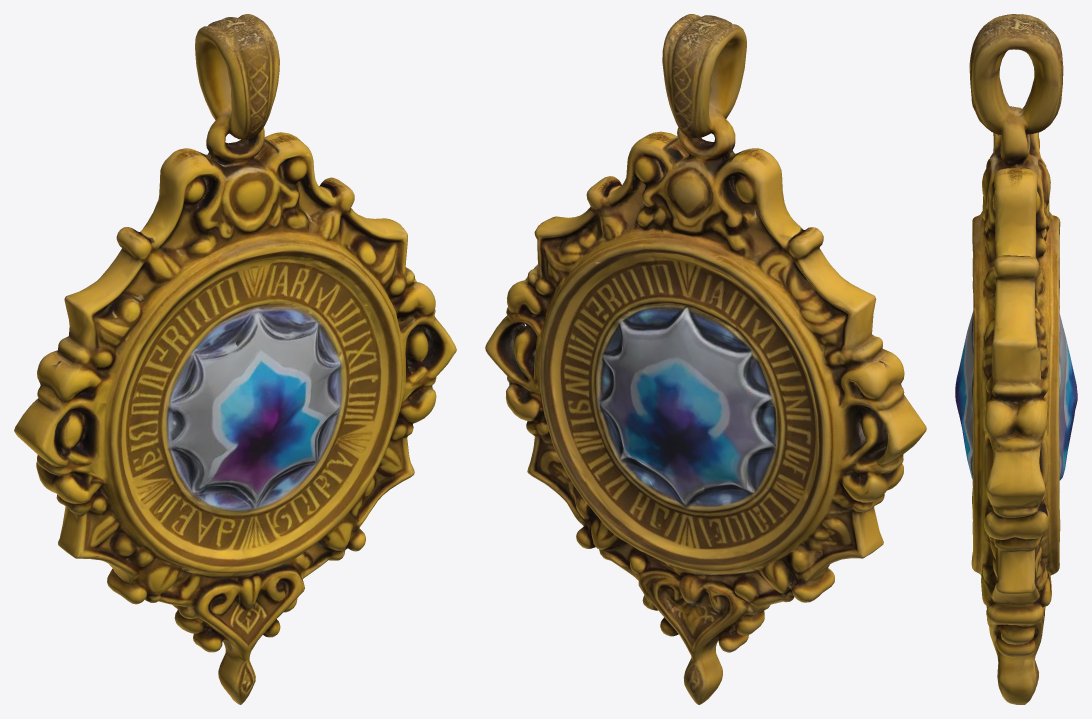
File: apex-fantasia-amuleto.glb
3 views of the same model, side by side, from view 1: azimuth 30°, elevation 25°; view 2: azimuth 150°, elevation 25°; view 3: azimuth 270°, elevation 25° (orthographic).
Bounding box in the file's own units: 1.29 × 2 × 0.3267.
1 material, 1 textured.
